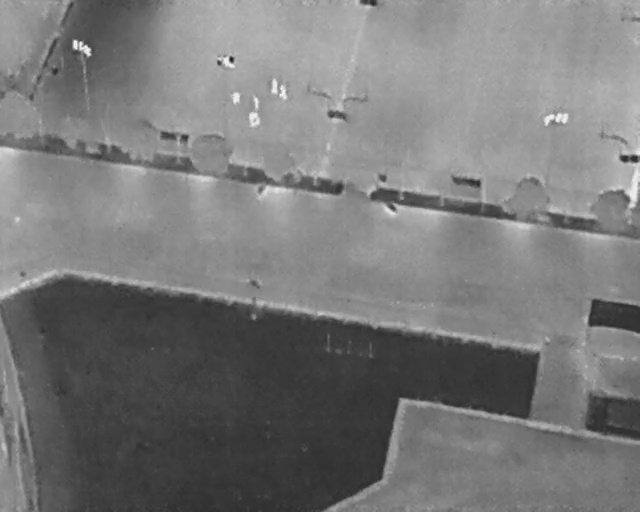Person: (270, 78, 279, 96), (279, 85, 288, 100), (232, 91, 241, 105), (253, 94, 260, 111), (248, 111, 256, 125), (251, 118, 261, 128)
